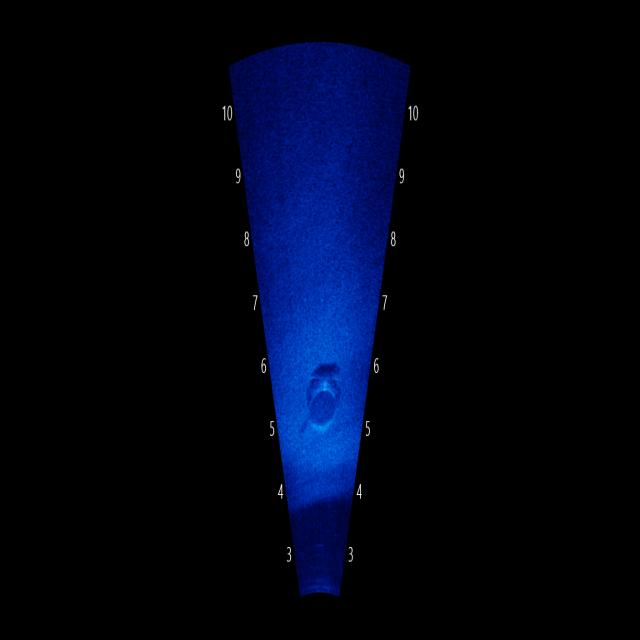circle: (289, 343, 347, 444)
